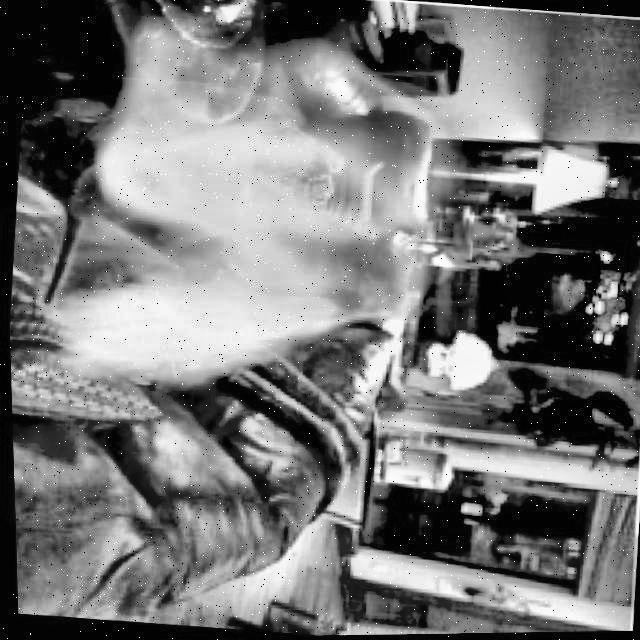Smoke: (27, 6, 481, 415)
